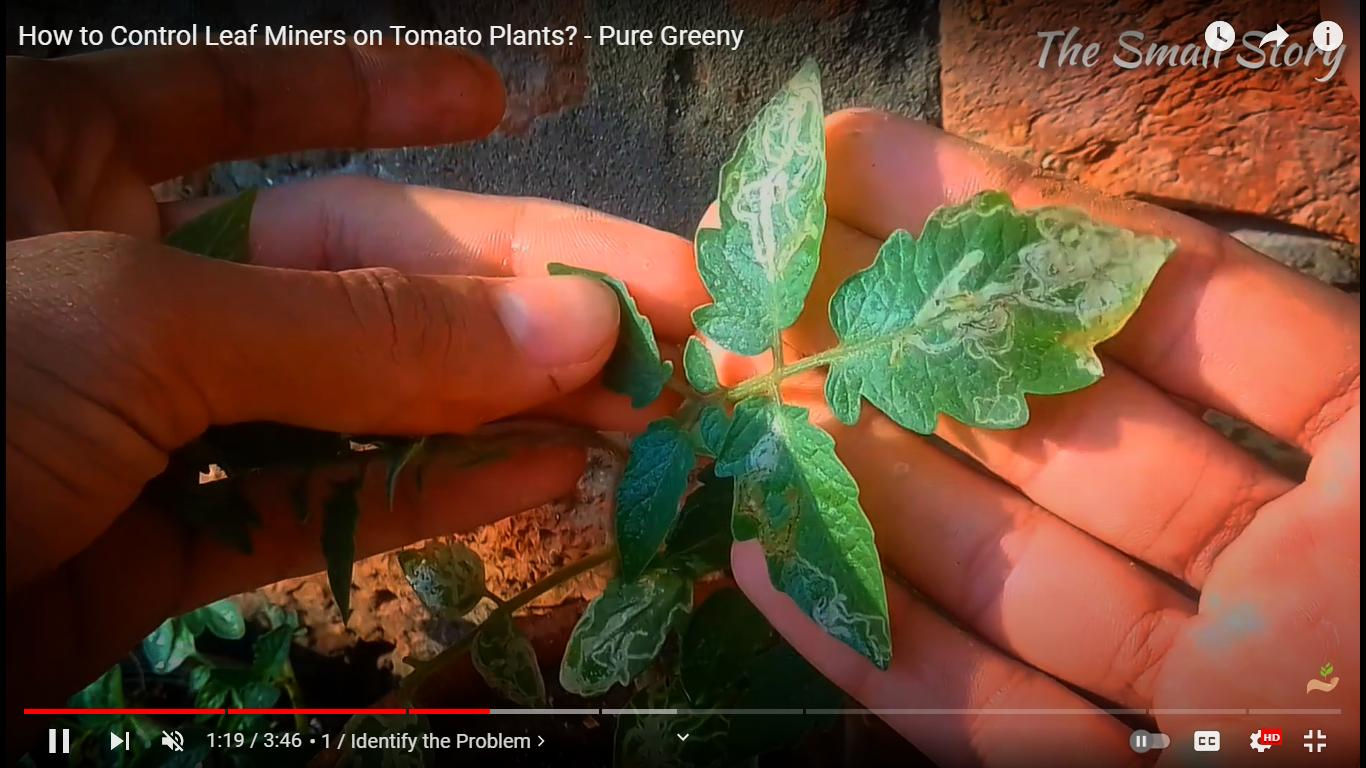Healthy: (613, 414, 702, 583)
Leaf_Miner: (824, 188, 1184, 438), (711, 395, 895, 670), (687, 55, 828, 355), (559, 553, 699, 697), (396, 539, 492, 621), (470, 615, 549, 710)
